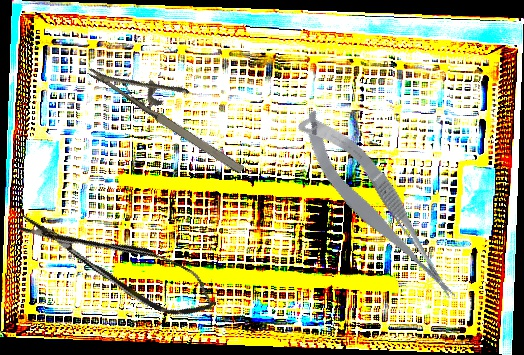Micro Scissor: (289, 95, 465, 321), (10, 192, 225, 333)
Needle Holder: (86, 36, 262, 179)
